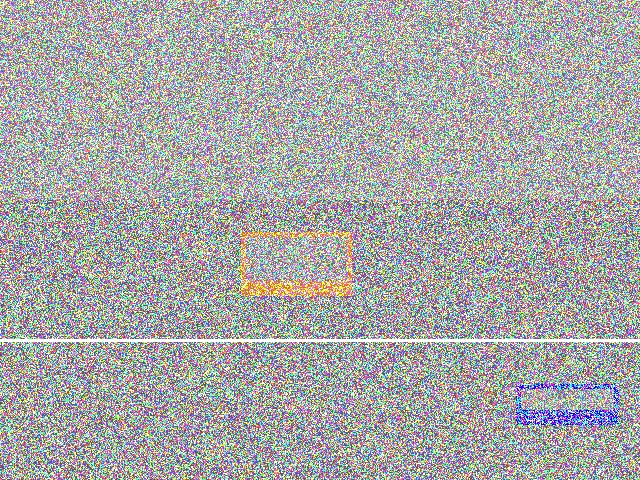bus: (188, 131, 333, 255)
truck: (471, 209, 606, 319)
